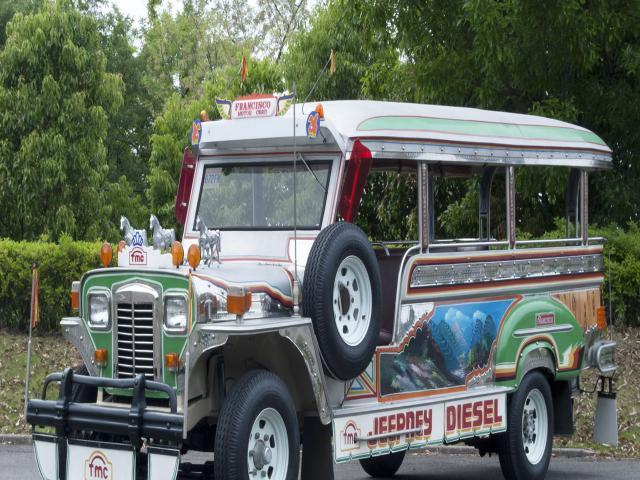jeepney: (27, 78, 614, 480)
